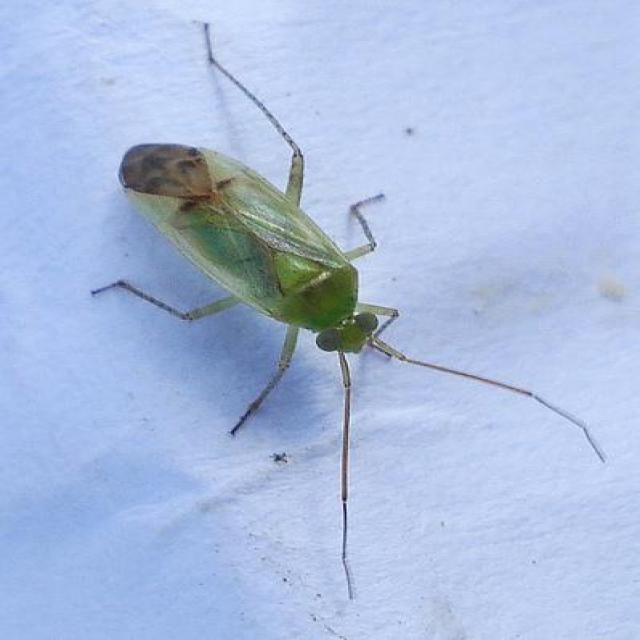Miridae-Adult-: (79, 17, 482, 454)
